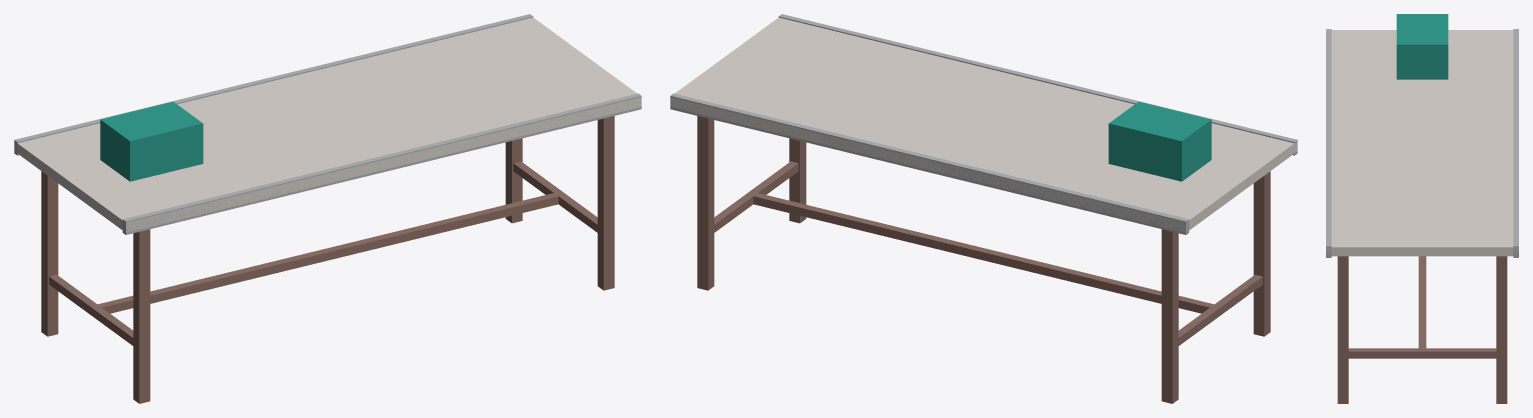
The model's file is laundry_table.glb.
3 views of the same model, side by side, from view 1: azimuth 30°, elevation 25°; view 2: azimuth 150°, elevation 25°; view 3: azimuth 270°, elevation 25° (orthographic). The views are drawn at different scales.
Parts seen in each view (by area): view 1: table_top, detergent_basket, brace_a, edge_front, leg_-1080_-370, leg_1080_-370, leg_-1080_370, edge_back, brace_b, brace_c, leg_1080_370; view 2: table_top, detergent_basket, edge_back, brace_a, leg_-1080_370, leg_1080_370, leg_-1080_-370, edge_front, brace_b, brace_c, leg_1080_-370; view 3: table_top, detergent_basket, leg_1080_370, leg_1080_-370, brace_c, edge_back, edge_front, brace_a.
Part boxes in pixels (x1,y1,x2,y2): table_top: (14,17,641,232); detergent_basket: (100,101,203,181); brace_a: (94,192,561,313); edge_front: (122,93,641,234); leg_-1080_-370: (133,229,150,403); leg_1080_-370: (597,116,614,290); leg_-1080_370: (41,171,58,336); edge_back: (14,14,533,155); brace_b: (49,274,133,345); brace_c: (513,161,597,232); leg_1080_370: (505,138,522,223); table_top: (670,17,1297,232); detergent_basket: (1108,101,1211,181); edge_back: (670,93,1189,234); brace_a: (753,193,1217,313); leg_-1080_370: (1161,229,1178,403); leg_1080_370: (697,116,714,290); leg_-1080_-370: (1253,171,1270,336); edge_front: (778,14,1297,155); brace_b: (1178,274,1262,345); brace_c: (714,161,798,232); leg_1080_-370: (789,138,806,223); table_top: (1326,30,1518,256); detergent_basket: (1396,14,1448,79); leg_1080_370: (1496,256,1507,403); leg_1080_-370: (1337,256,1348,403); brace_c: (1348,348,1496,358); edge_back: (1513,29,1518,257); edge_front: (1326,29,1331,257); brace_a: (1418,256,1426,349).
Size of the model in its own units: 2.4 by 1.03 by 0.9.
